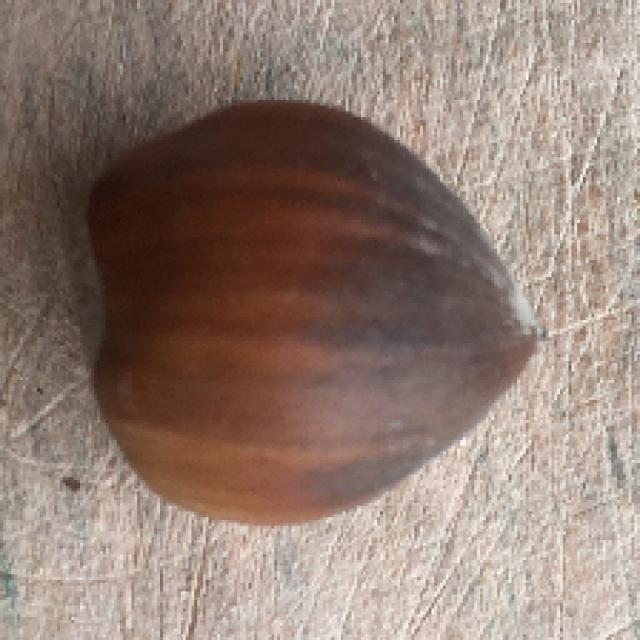DamagedHazelnut: (68, 99, 550, 521)
